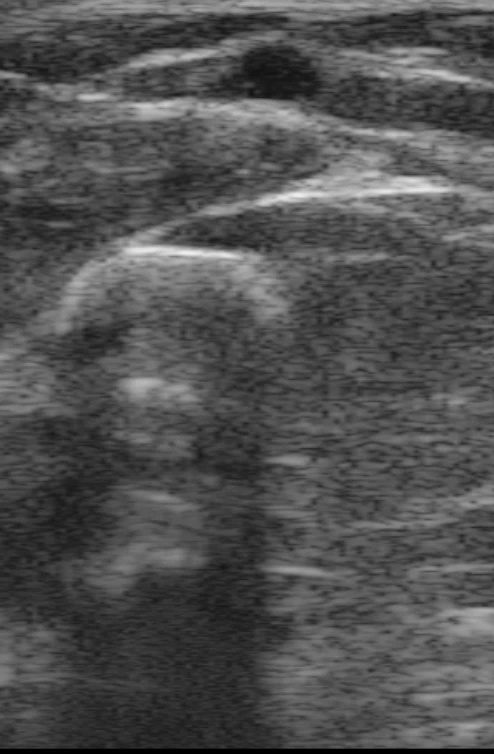veins_detect: (215, 36, 334, 110)
veins_seg: (223, 47, 322, 101)
